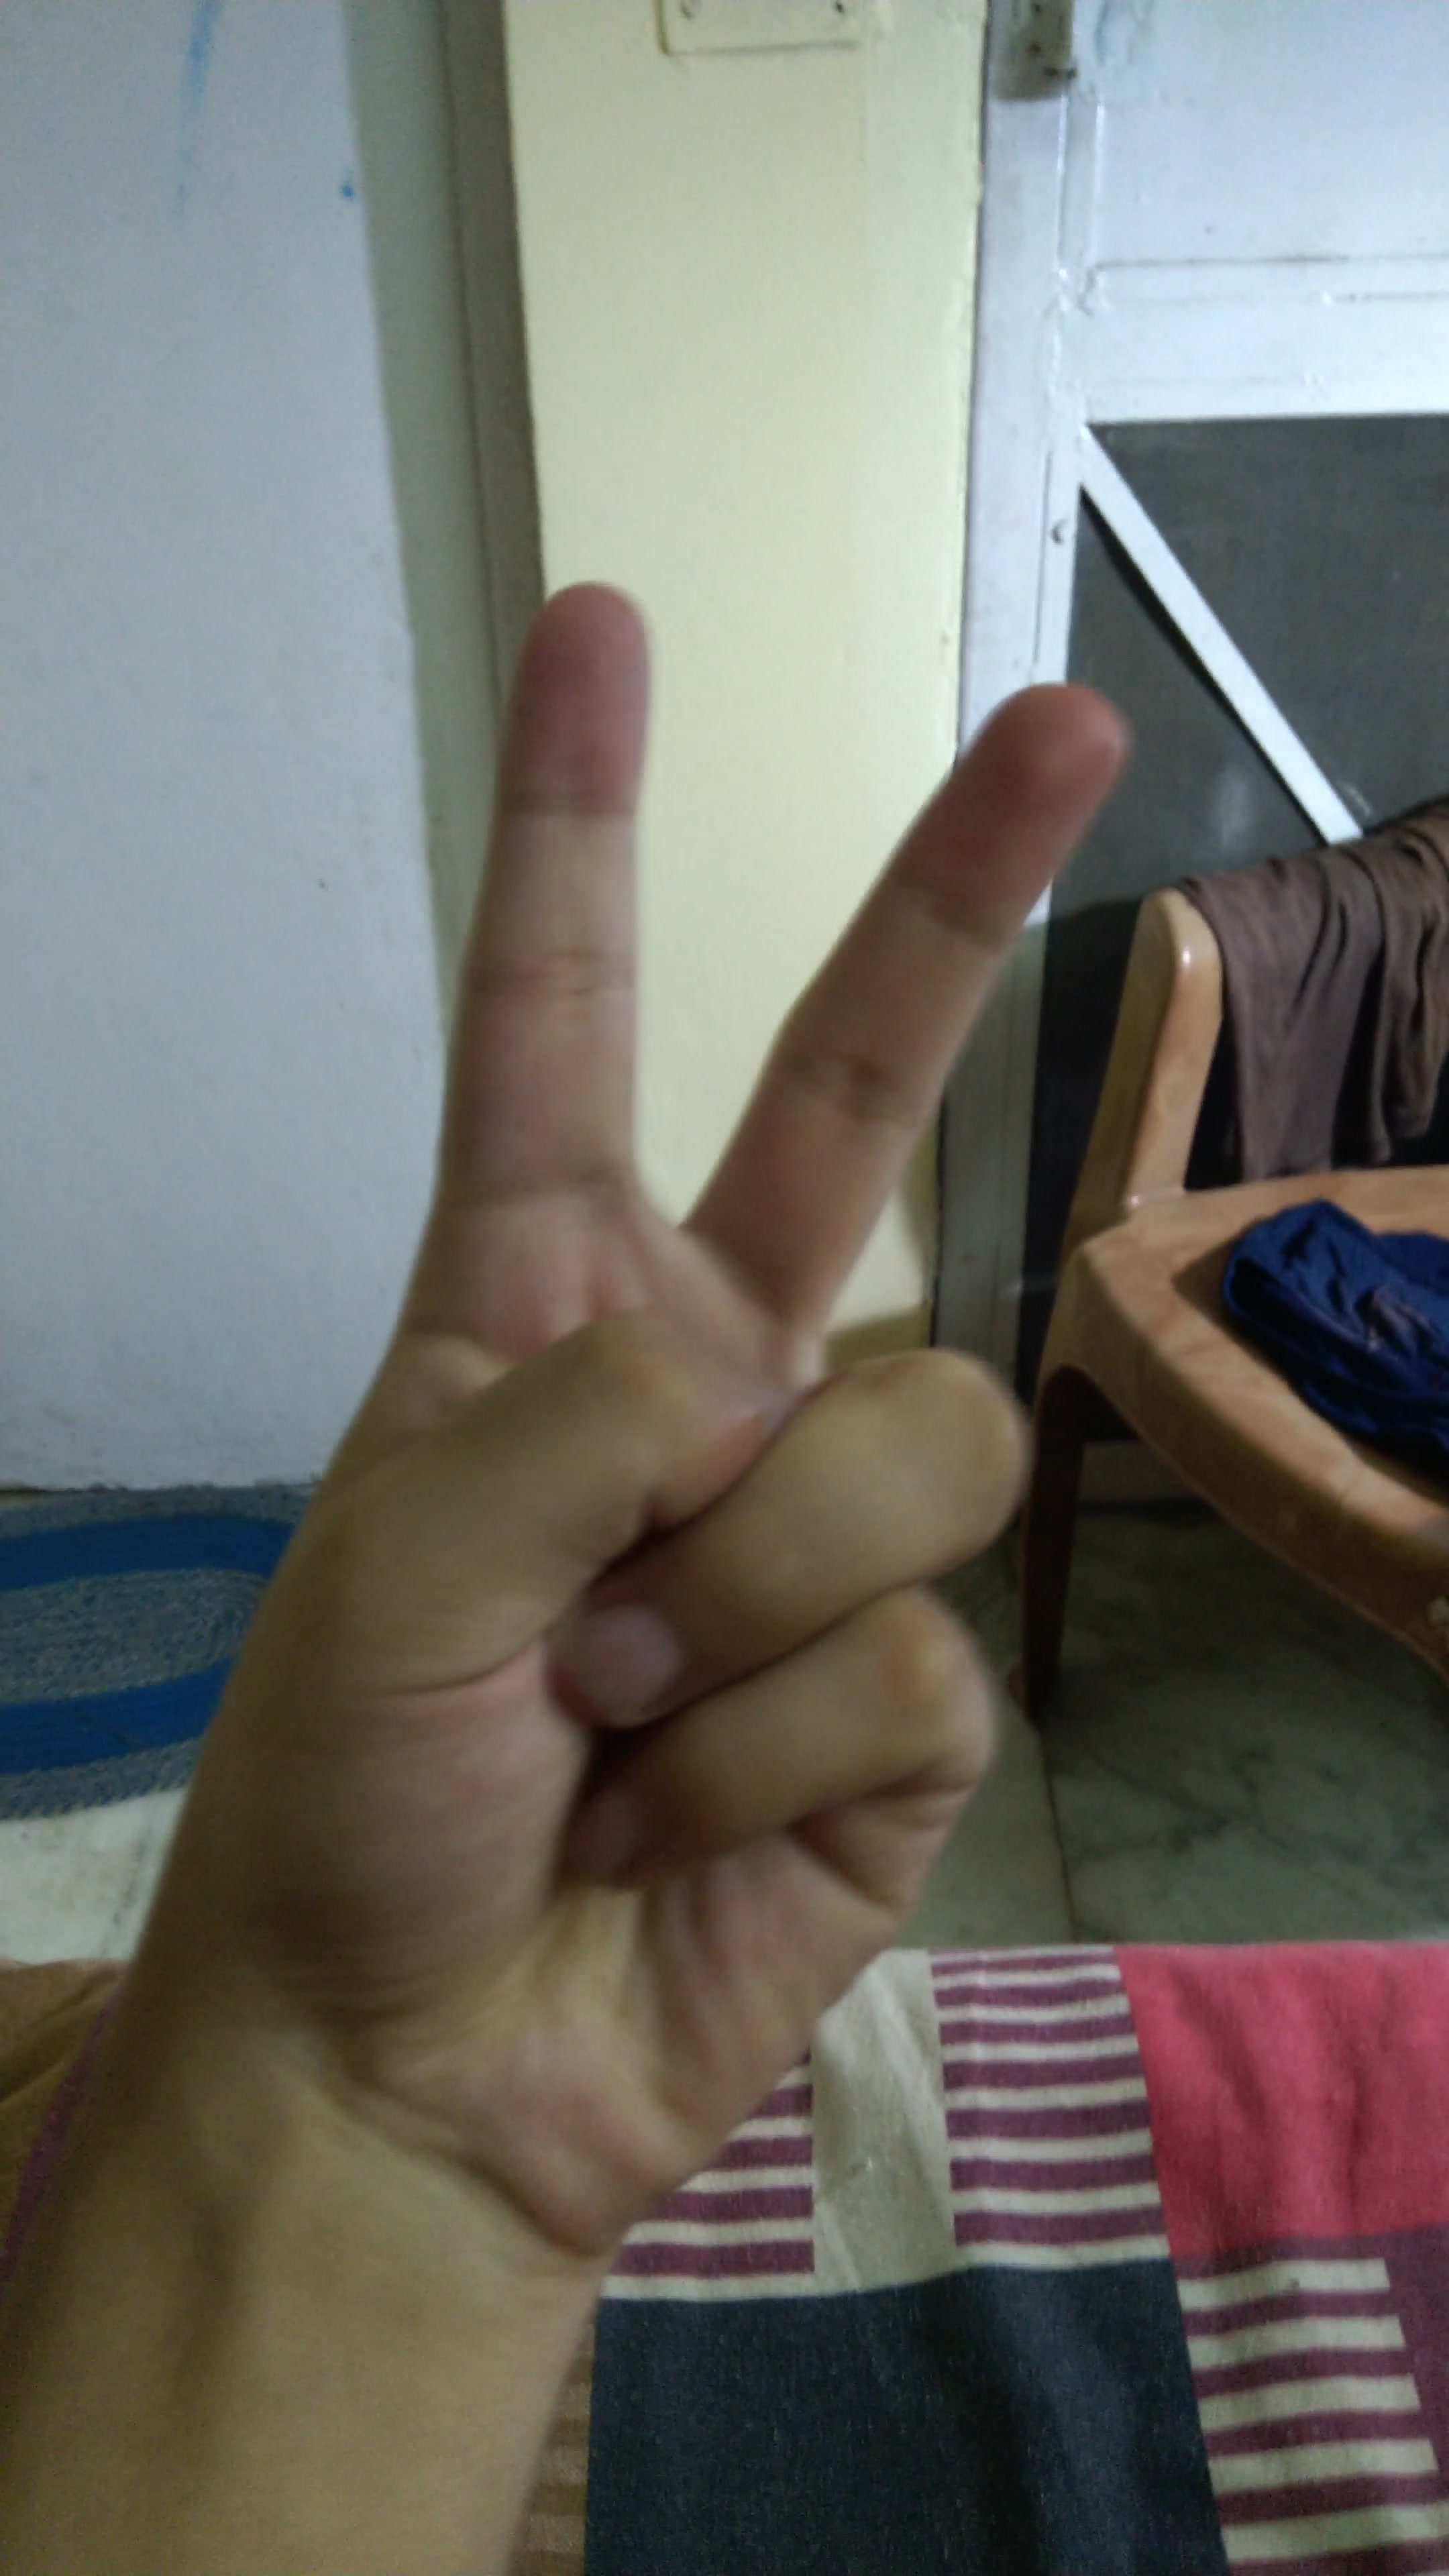hand: (142, 527, 1212, 2261)
